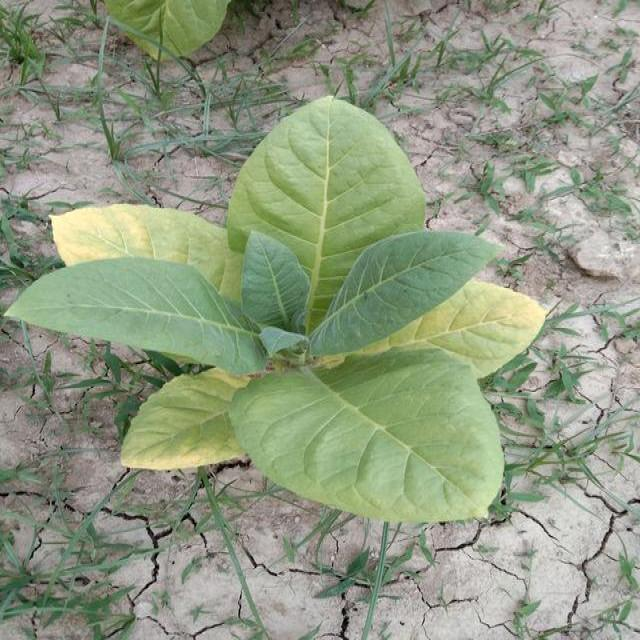crop: (46, 107, 544, 528), (94, 0, 227, 53)
